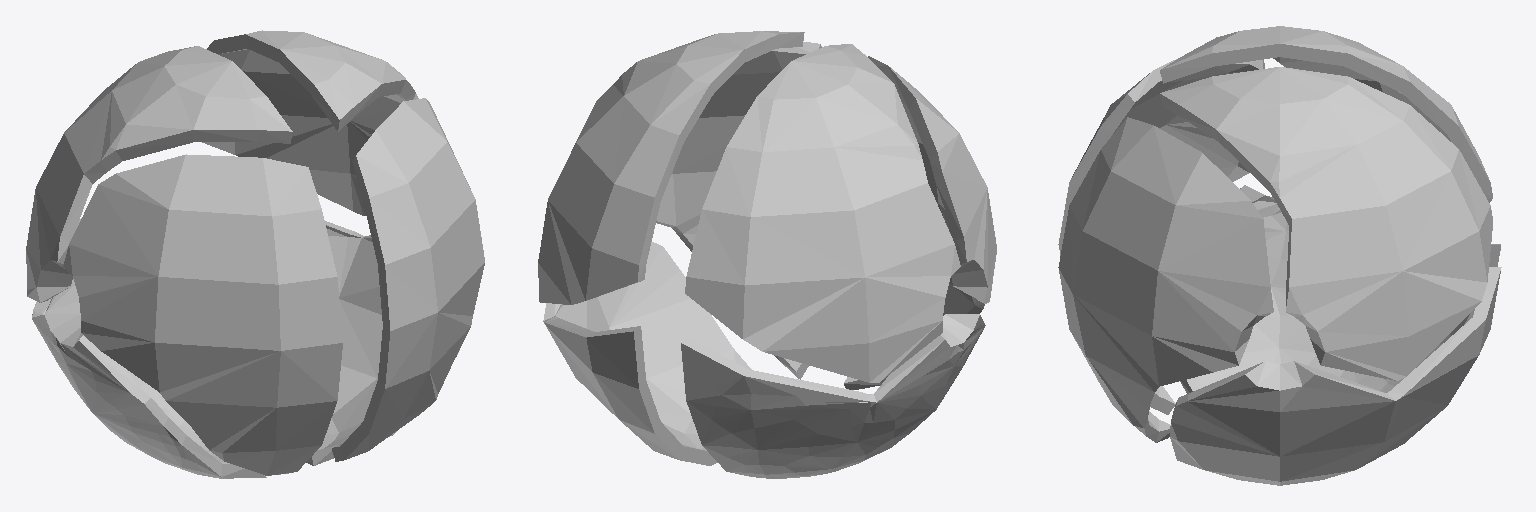
The model's file is Morph Ball & Boost Ball Upgrade.obj.
3 renders of one model, left to right at view 1: azimuth 30°, elevation 25°; view 2: azimuth 150°, elevation 25°; view 3: azimuth 270°, elevation 25°, orthographic.
Visible parts, largest first — view 1: 903e8ac5_CMDL; view 2: 903e8ac5_CMDL; view 3: 903e8ac5_CMDL.
Part boxes in pixels (bbox=[...]): 903e8ac5_CMDL: bbox=[26, 30, 484, 478]; 903e8ac5_CMDL: bbox=[538, 31, 996, 478]; 903e8ac5_CMDL: bbox=[1058, 26, 1501, 485].
Size of the model in its own units: 1.04 by 1.01 by 1.01.